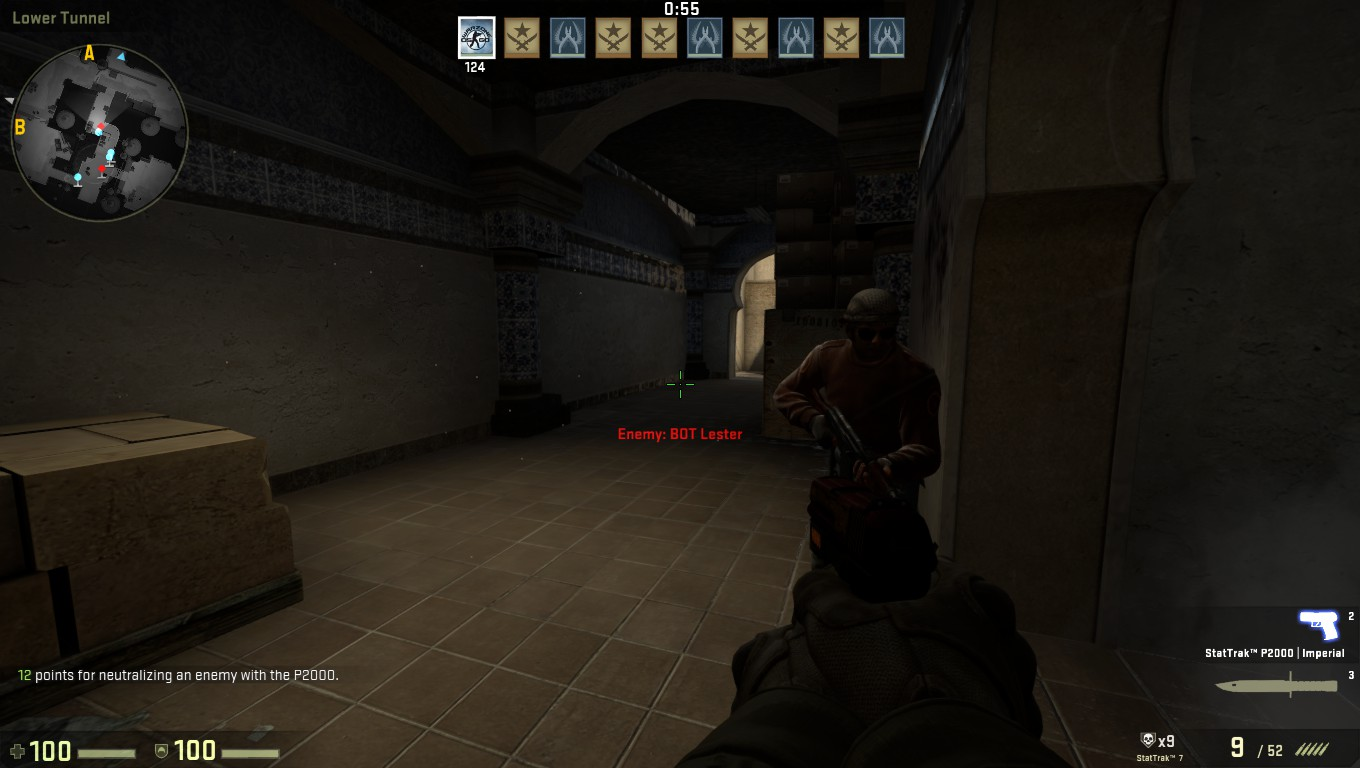t: (773, 268, 951, 593)
th: (830, 281, 915, 365)
